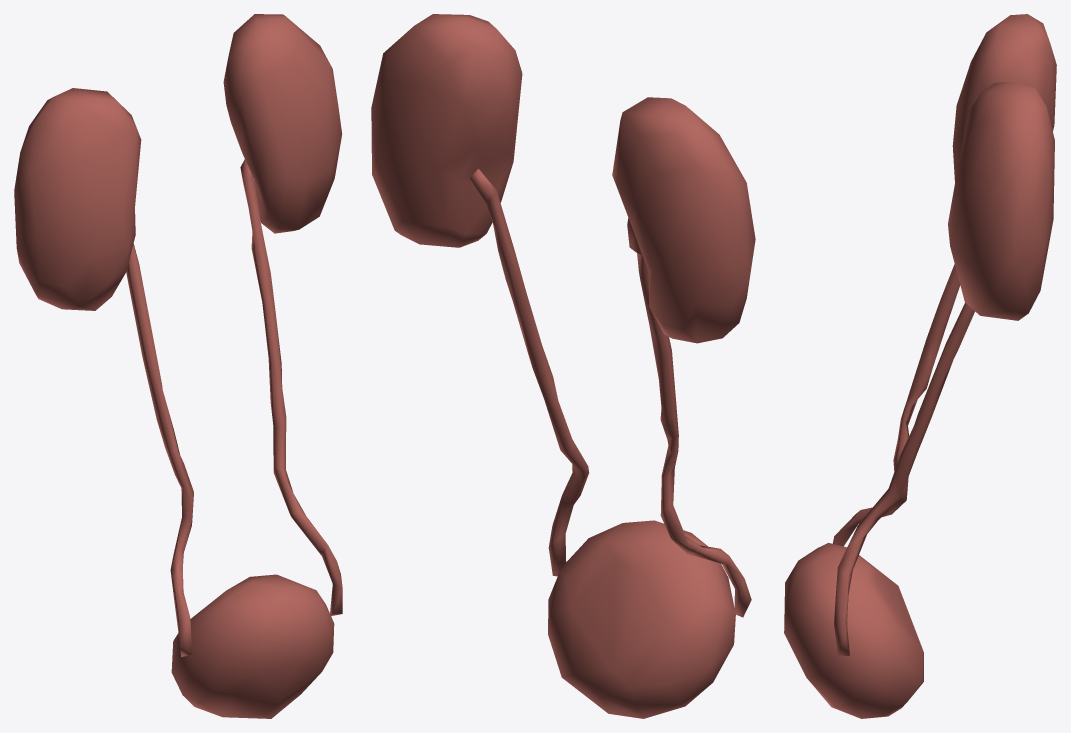
File: pediatric_adolescent_female.urinary.LOD2.glb
3 renders of one model, left to right at view 1: azimuth 30°, elevation 25°; view 2: azimuth 150°, elevation 25°; view 3: azimuth 270°, elevation 25°, orthographic. The views are drawn at different scales.
Parts seen in each view (by area): view 1: PEDIATRIC.ADOLESCENT.FEMALE.URINARY.KIDNEY_CORTEX.R, PEDIATRIC.ADOLESCENT.FEMALE.URINARY.KIDNEY_CORTEX.L, PEDIATRIC.ADOLESCENT.FEMALE.URINARY.URINARY_BLADDER_WALL, PEDIATRIC.ADOLESCENT.FEMALE.URINARY.URETER.L, PEDIATRIC.ADOLESCENT.FEMALE.URINARY.URETER.R; view 2: PEDIATRIC.ADOLESCENT.FEMALE.URINARY.URINARY_BLADDER_WALL, PEDIATRIC.ADOLESCENT.FEMALE.URINARY.KIDNEY_CORTEX.L, PEDIATRIC.ADOLESCENT.FEMALE.URINARY.KIDNEY_CORTEX.R, PEDIATRIC.ADOLESCENT.FEMALE.URINARY.URETER.L, PEDIATRIC.ADOLESCENT.FEMALE.URINARY.URETER.R; view 3: PEDIATRIC.ADOLESCENT.FEMALE.URINARY.KIDNEY_CORTEX.L, PEDIATRIC.ADOLESCENT.FEMALE.URINARY.URINARY_BLADDER_WALL, PEDIATRIC.ADOLESCENT.FEMALE.URINARY.KIDNEY_CORTEX.R, PEDIATRIC.ADOLESCENT.FEMALE.URINARY.URETER.L, PEDIATRIC.ADOLESCENT.FEMALE.URINARY.URETER.R.
Boxes of the visible parts, x1,y1,x2,y2 form: PEDIATRIC.ADOLESCENT.FEMALE.URINARY.KIDNEY_CORTEX.R: [14, 88, 141, 310]; PEDIATRIC.ADOLESCENT.FEMALE.URINARY.KIDNEY_CORTEX.L: [223, 14, 342, 233]; PEDIATRIC.ADOLESCENT.FEMALE.URINARY.URINARY_BLADDER_WALL: [171, 574, 334, 718]; PEDIATRIC.ADOLESCENT.FEMALE.URINARY.URETER.L: [240, 159, 342, 616]; PEDIATRIC.ADOLESCENT.FEMALE.URINARY.URETER.R: [126, 244, 193, 656]; PEDIATRIC.ADOLESCENT.FEMALE.URINARY.URINARY_BLADDER_WALL: [548, 520, 735, 718]; PEDIATRIC.ADOLESCENT.FEMALE.URINARY.KIDNEY_CORTEX.L: [371, 14, 522, 247]; PEDIATRIC.ADOLESCENT.FEMALE.URINARY.KIDNEY_CORTEX.R: [612, 97, 755, 343]; PEDIATRIC.ADOLESCENT.FEMALE.URINARY.URETER.L: [470, 169, 589, 576]; PEDIATRIC.ADOLESCENT.FEMALE.URINARY.URETER.R: [627, 218, 751, 617]; PEDIATRIC.ADOLESCENT.FEMALE.URINARY.KIDNEY_CORTEX.L: [948, 81, 1054, 320]; PEDIATRIC.ADOLESCENT.FEMALE.URINARY.URINARY_BLADDER_WALL: [784, 543, 923, 718]; PEDIATRIC.ADOLESCENT.FEMALE.URINARY.KIDNEY_CORTEX.R: [952, 14, 1056, 181]; PEDIATRIC.ADOLESCENT.FEMALE.URINARY.URETER.L: [834, 303, 974, 656]; PEDIATRIC.ADOLESCENT.FEMALE.URINARY.URETER.R: [833, 264, 960, 546].
Bounding box in the file's own units: 0.1725 × 0.3186 × 0.1178.
